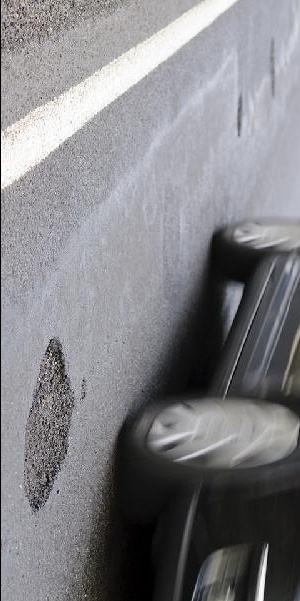pothole: (19, 334, 74, 516)
